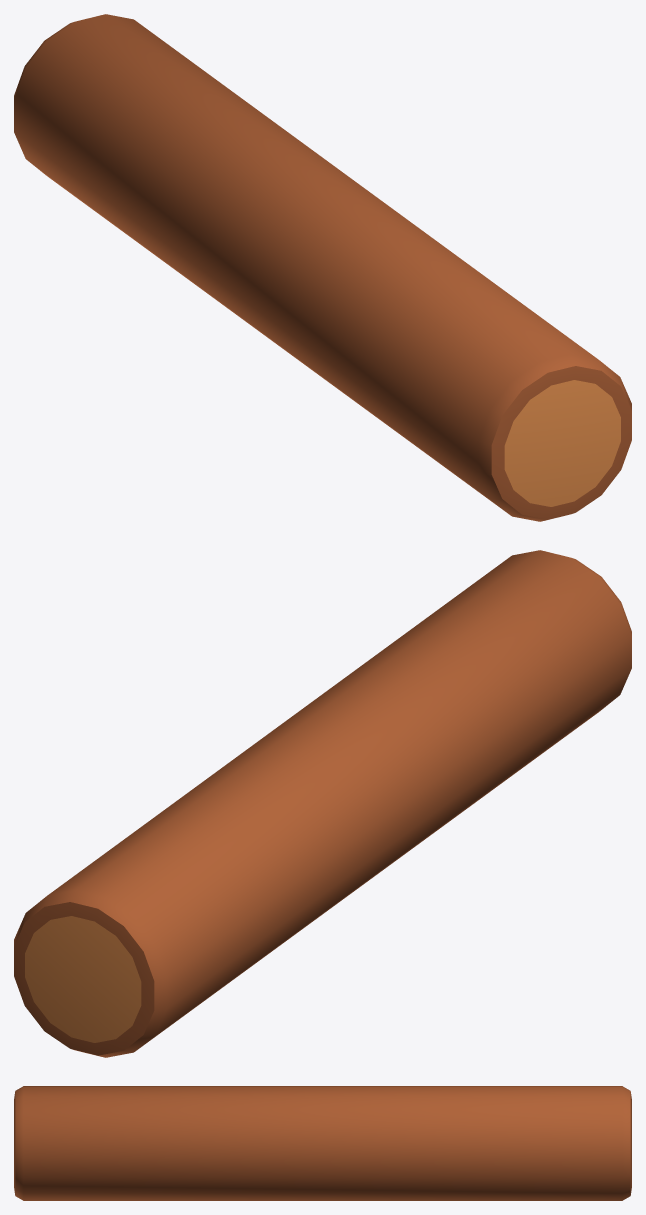
The model's file is wood.fbx.
3 renders of one model, top to bottom at view 1: azimuth 30°, elevation 25°; view 2: azimuth 150°, elevation 25°; view 3: azimuth 270°, elevation 25°, orthographic. The views are drawn at different scales.
Parts seen in each view (by area): view 1: Cylinder.414; view 2: Cylinder.414; view 3: Cylinder.414.
Part boxes in pixels (x1,y1,x2,y2): Cylinder.414: [14, 14, 631, 521]; Cylinder.414: [14, 550, 631, 1057]; Cylinder.414: [14, 1086, 631, 1200].
Bounding box in the file's own units: 16.23 × 16.23 × 88.14.
